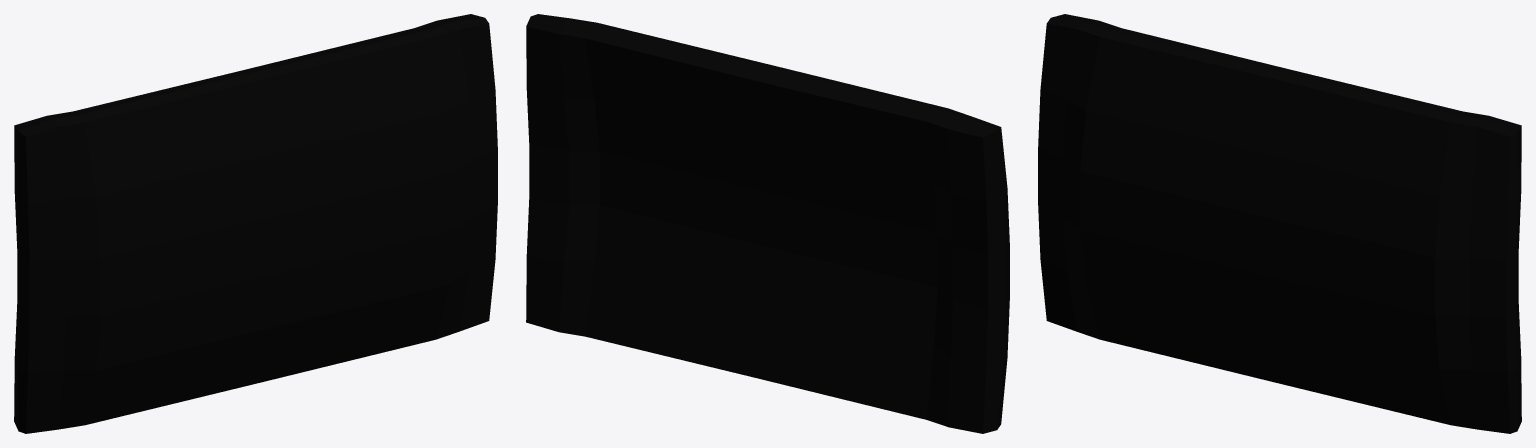
The model's file is ShipSailHighlight.fbx.
The picture shows the model from 3 angles, left to right: view 1: azimuth 30°, elevation 25°; view 2: azimuth 150°, elevation 25°; view 3: azimuth 330°, elevation 25°; orthographic projection.
Visible parts, largest first — view 1: Cube.001; view 2: Cube.001; view 3: Cube.001.
Boxes of the visible parts, x1,y1,x2,y2 form: Cube.001: [14, 14, 497, 433]; Cube.001: [526, 14, 1009, 433]; Cube.001: [1038, 14, 1521, 433].
Bounding box in the file's own units: 223 × 139 × 29.75.
